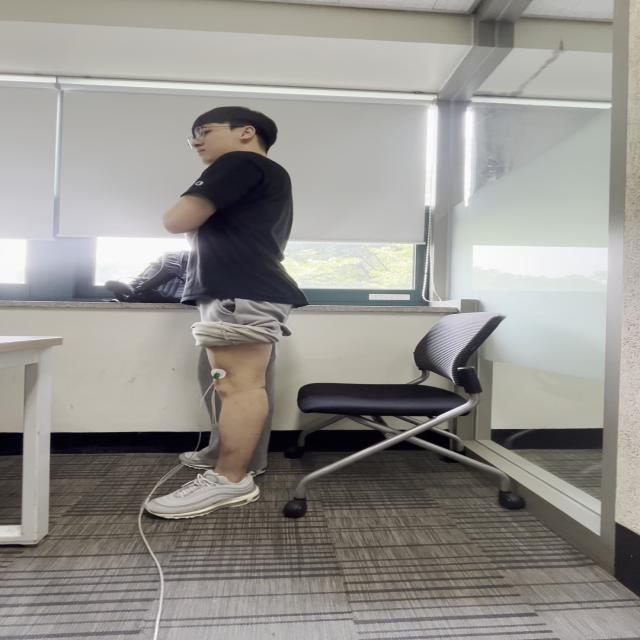stand: (182, 165, 299, 368), (176, 284, 280, 508)
